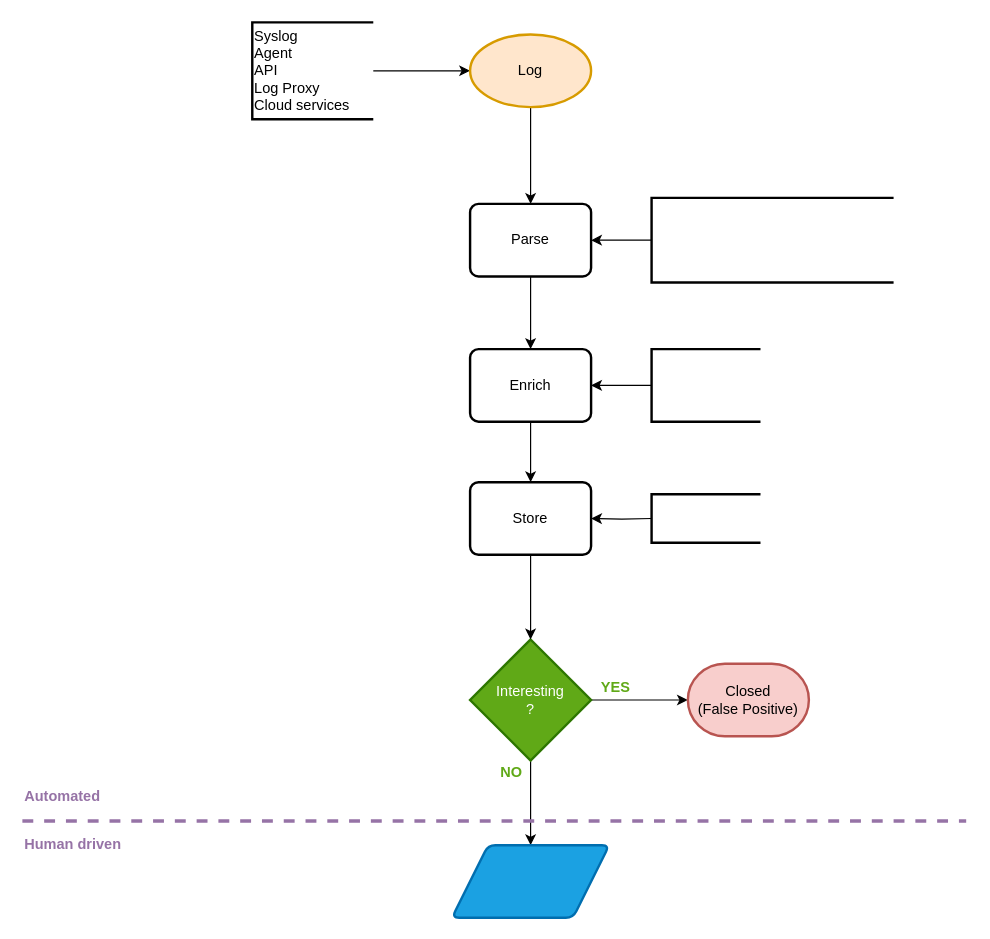
Image size: 990x939. Some labels were removed from this diagram. The box of each missing label's shape, as (x1, y1, x2, y2) in pixels:
Event Management: (450, 843, 610, 918)
FQDN Reputation Related events: (650, 347, 761, 422)
Retention: (650, 492, 761, 543)
Timestamp Source Type Severity Fields (username, IP Addresses...): (650, 196, 894, 283)
